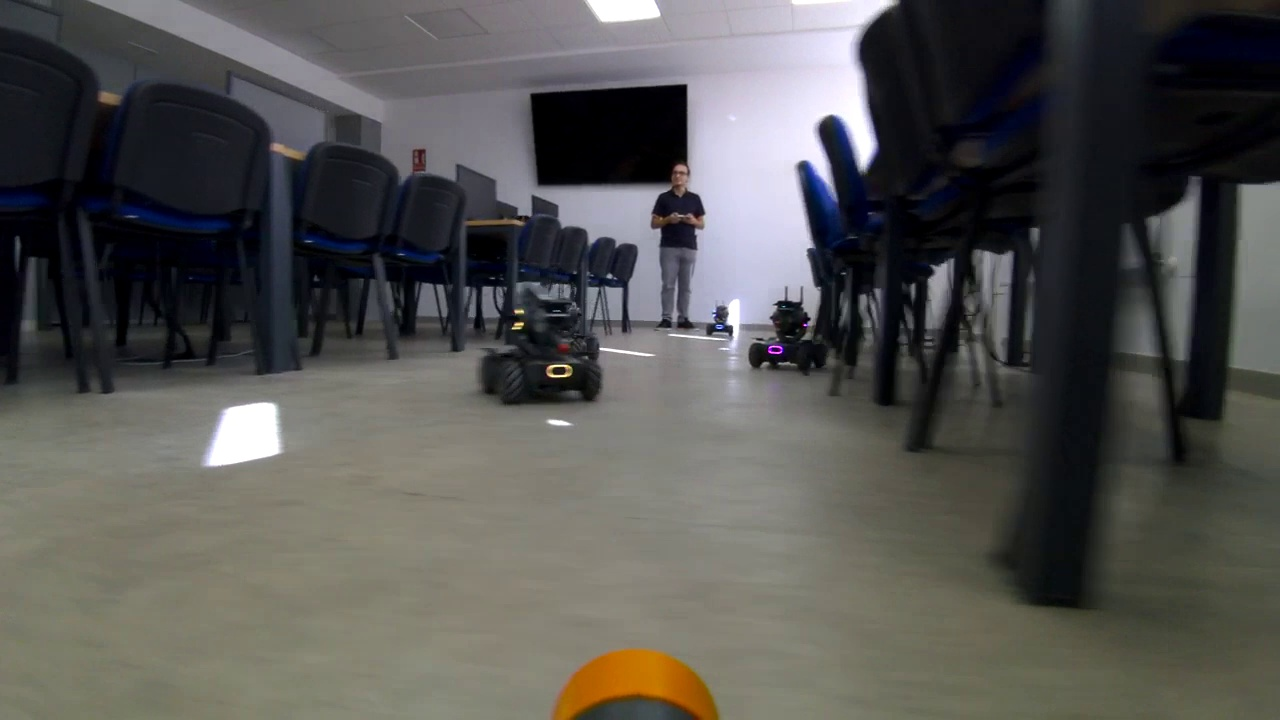robot: (486, 290, 604, 400), (748, 295, 831, 373), (705, 299, 737, 338)
